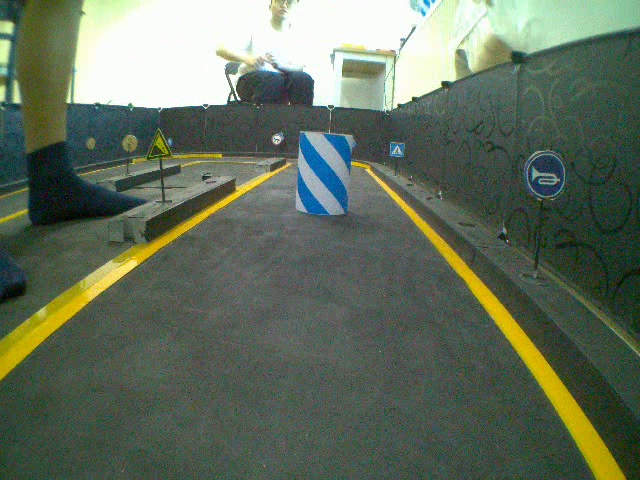bucket: (297, 130, 352, 216)
